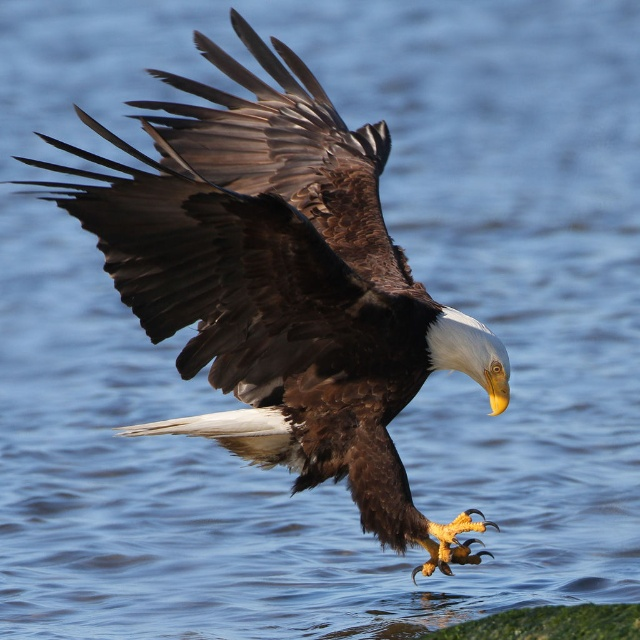Eagle: (0, 8, 514, 586)
